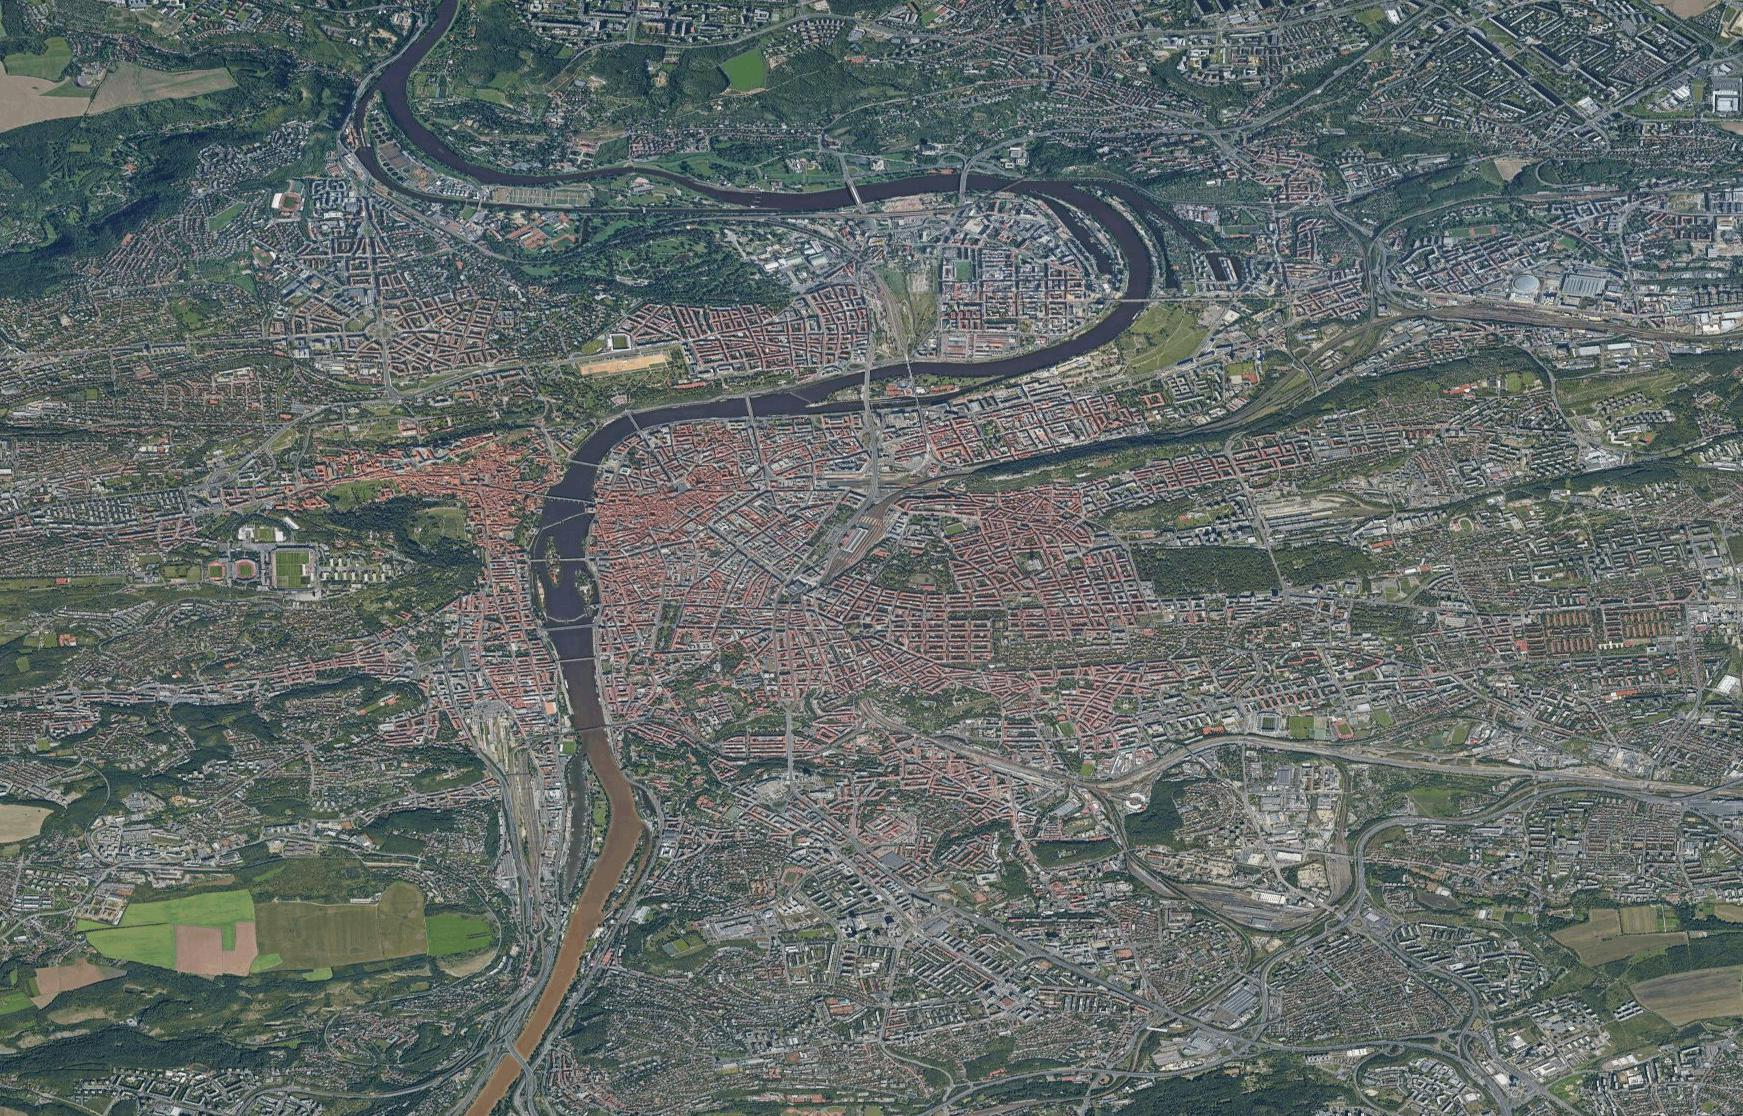bridge: (504, 1030, 530, 1074), (537, 491, 589, 506), (544, 624, 595, 638), (952, 167, 973, 196), (1113, 295, 1151, 311), (624, 411, 644, 437), (850, 177, 865, 207), (554, 555, 587, 569), (556, 656, 593, 667), (567, 458, 603, 469), (741, 395, 758, 418), (899, 358, 917, 379), (860, 369, 874, 388), (569, 727, 603, 733)
train_station: (828, 498, 883, 569)
